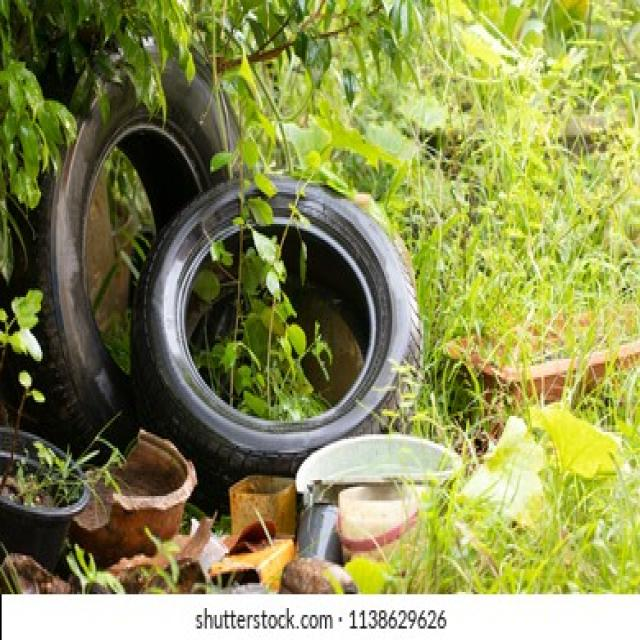tire: (0, 32, 246, 464), (128, 169, 423, 501)
